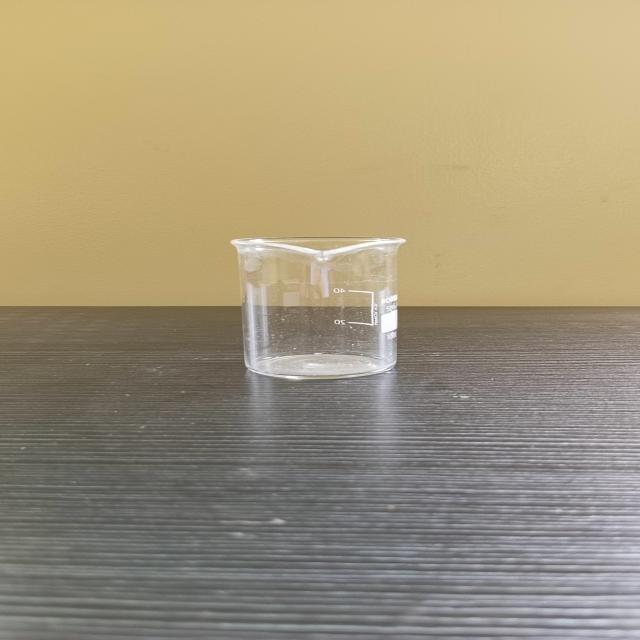beaker: (219, 232, 416, 382)
